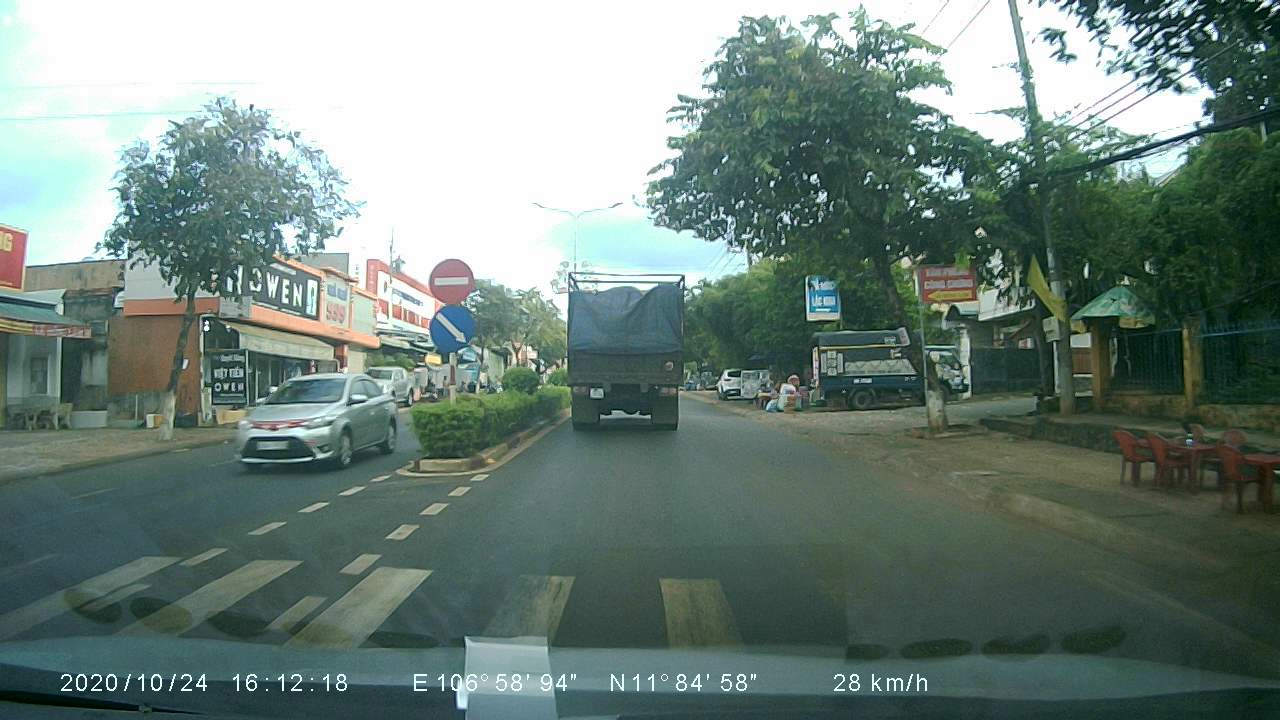Cam di nguoc chieu: (429, 256, 477, 301)
Huong di phai re phai: (427, 303, 476, 353)
